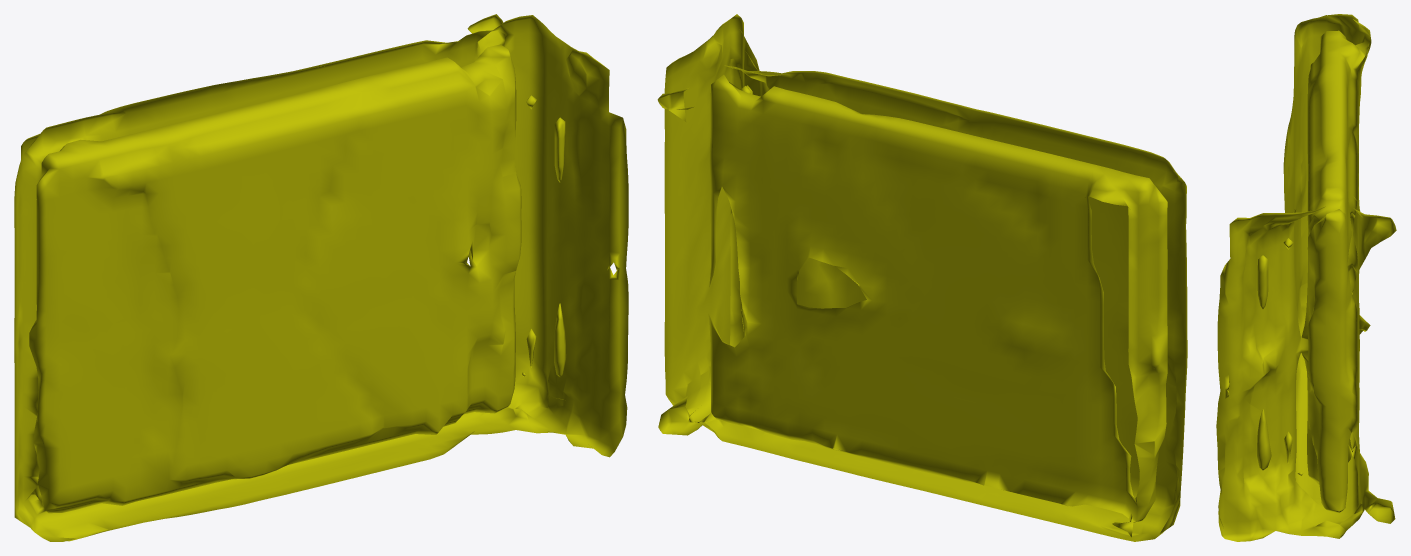
The picture shows the model from 3 angles, left to right: view 1: azimuth 30°, elevation 25°; view 2: azimuth 150°, elevation 25°; view 3: azimuth 270°, elevation 25°; orthographic projection. The views are drawn at different scales.
Visible parts, largest first — view 1: world; view 2: world; view 3: world.
Part boxes in pixels (x1,y1,x2,y2): world: (14,14,628,541); world: (657,14,1187,541); world: (1216,14,1396,541).
Size of the model in its own units: 40.99 by 29.33 by 14.15.
